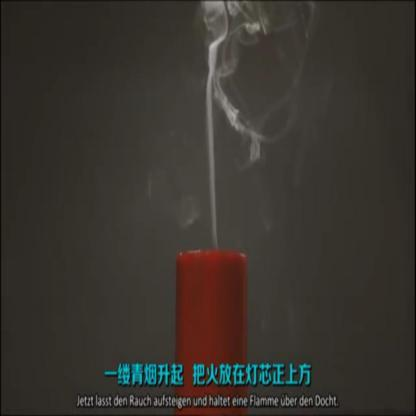smoke: (201, 28, 222, 244), (209, 0, 274, 31)
